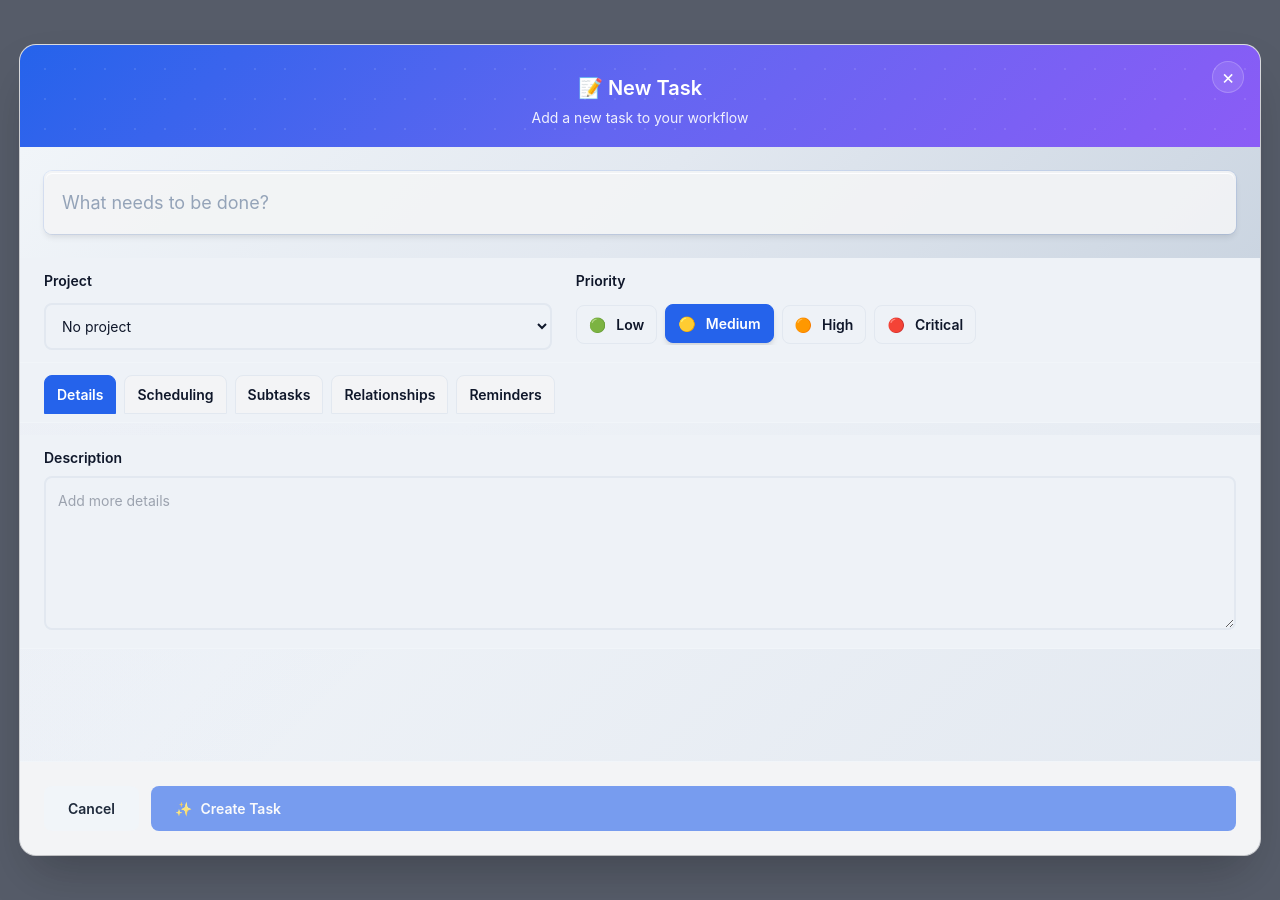
Test case: TaskForm › handles date selection
Note: Open Scheduling tab and check for start/due inputs
Click the button "Scheduling". click: coordinates (176, 394)
box: x1=124 y1=375 x2=227 y2=414
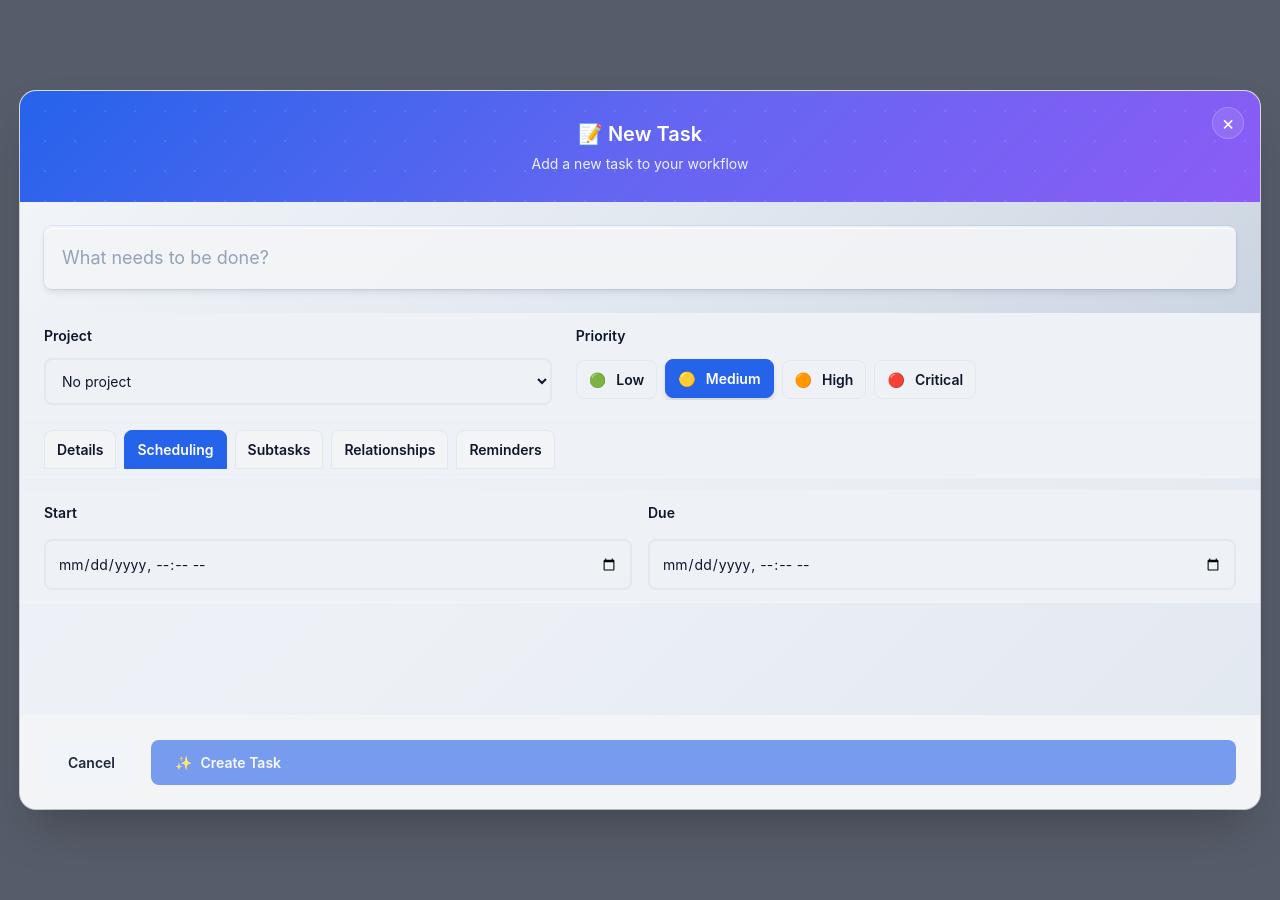
Expected: the field labelled "Start" is shown, x1=44 y1=539 x2=632 y2=590
Expected: the field labelled "Due" is shown, x1=648 y1=539 x2=1236 y2=590
